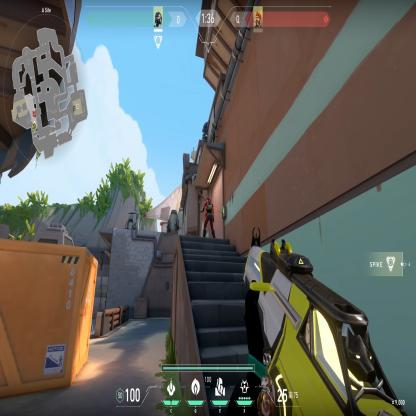enemy: (199, 192, 217, 241)
